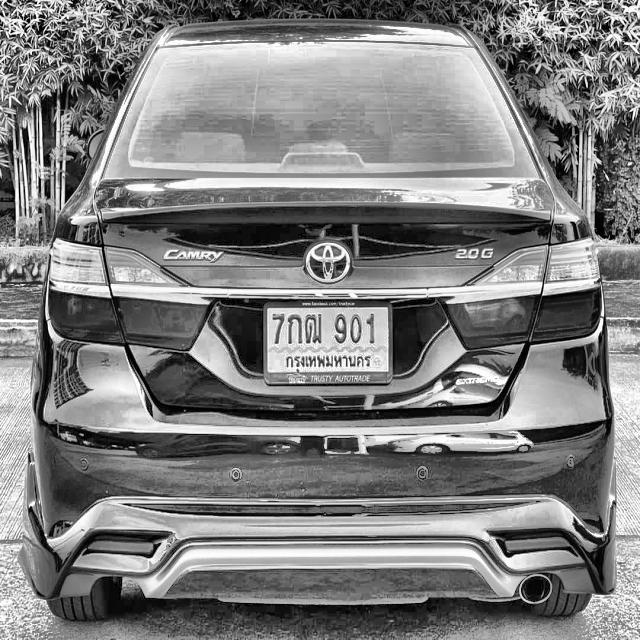license-plate: (264, 298, 394, 388)
